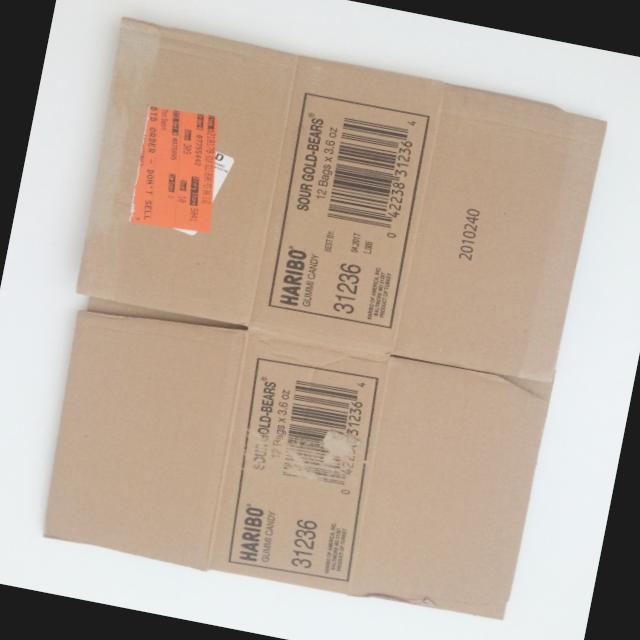Cardboard: (4, 6, 626, 640)
